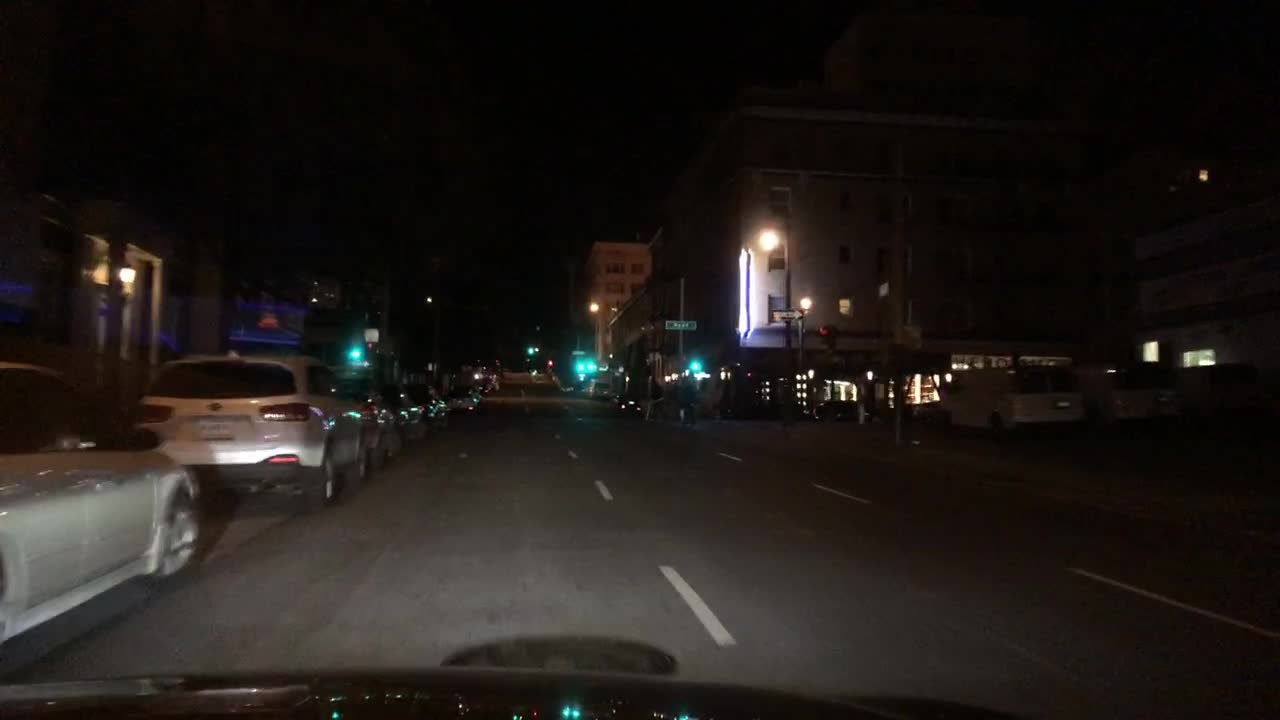car: (0, 355, 203, 673), (128, 352, 369, 507), (938, 362, 1086, 436), (341, 374, 401, 469), (1086, 360, 1160, 423), (385, 385, 429, 444), (1149, 362, 1189, 423), (408, 380, 448, 429), (446, 381, 478, 413), (583, 376, 612, 401), (481, 374, 504, 394), (476, 378, 492, 397)
traffic light: (820, 324, 833, 350), (689, 355, 700, 375), (352, 341, 361, 362)
traffic sign: (663, 318, 696, 331), (770, 310, 803, 320), (569, 348, 591, 355)
